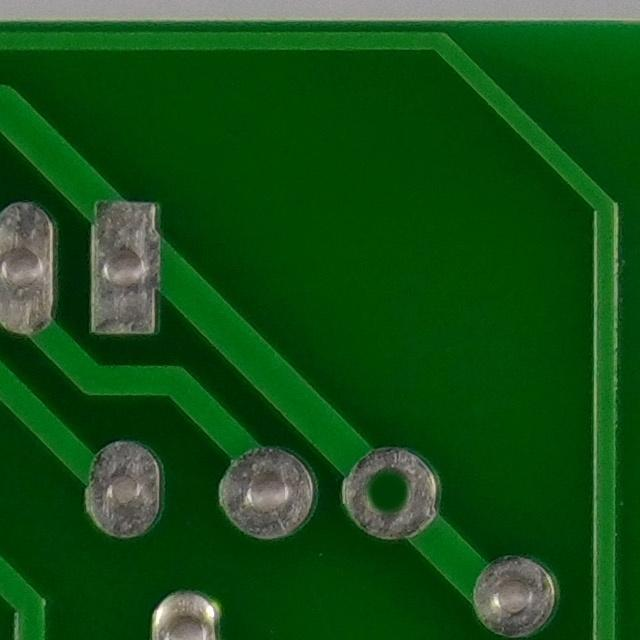missing_hole: (340, 447, 437, 539)
